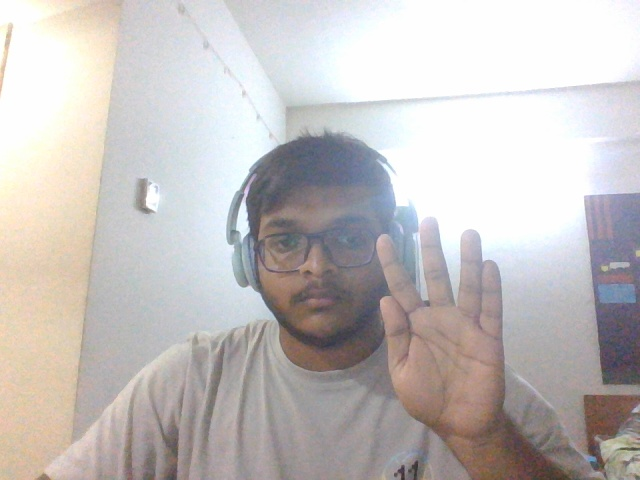LiveLong: (373, 217, 507, 433)
